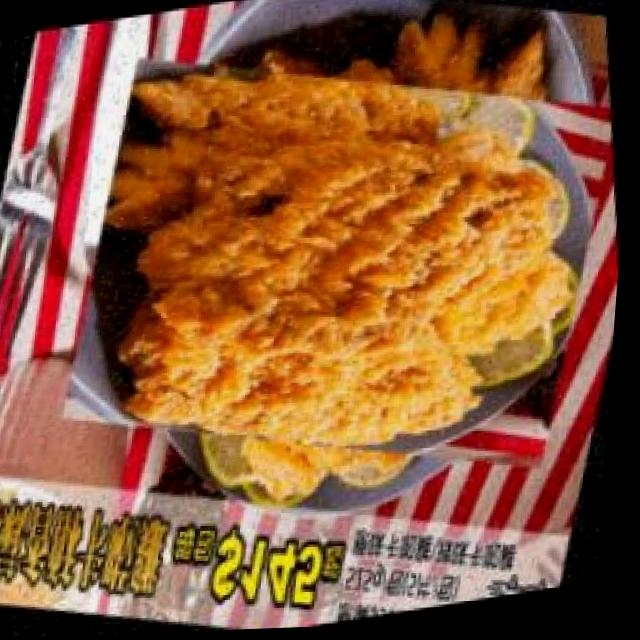fried_chicken: (34, 0, 640, 563)
